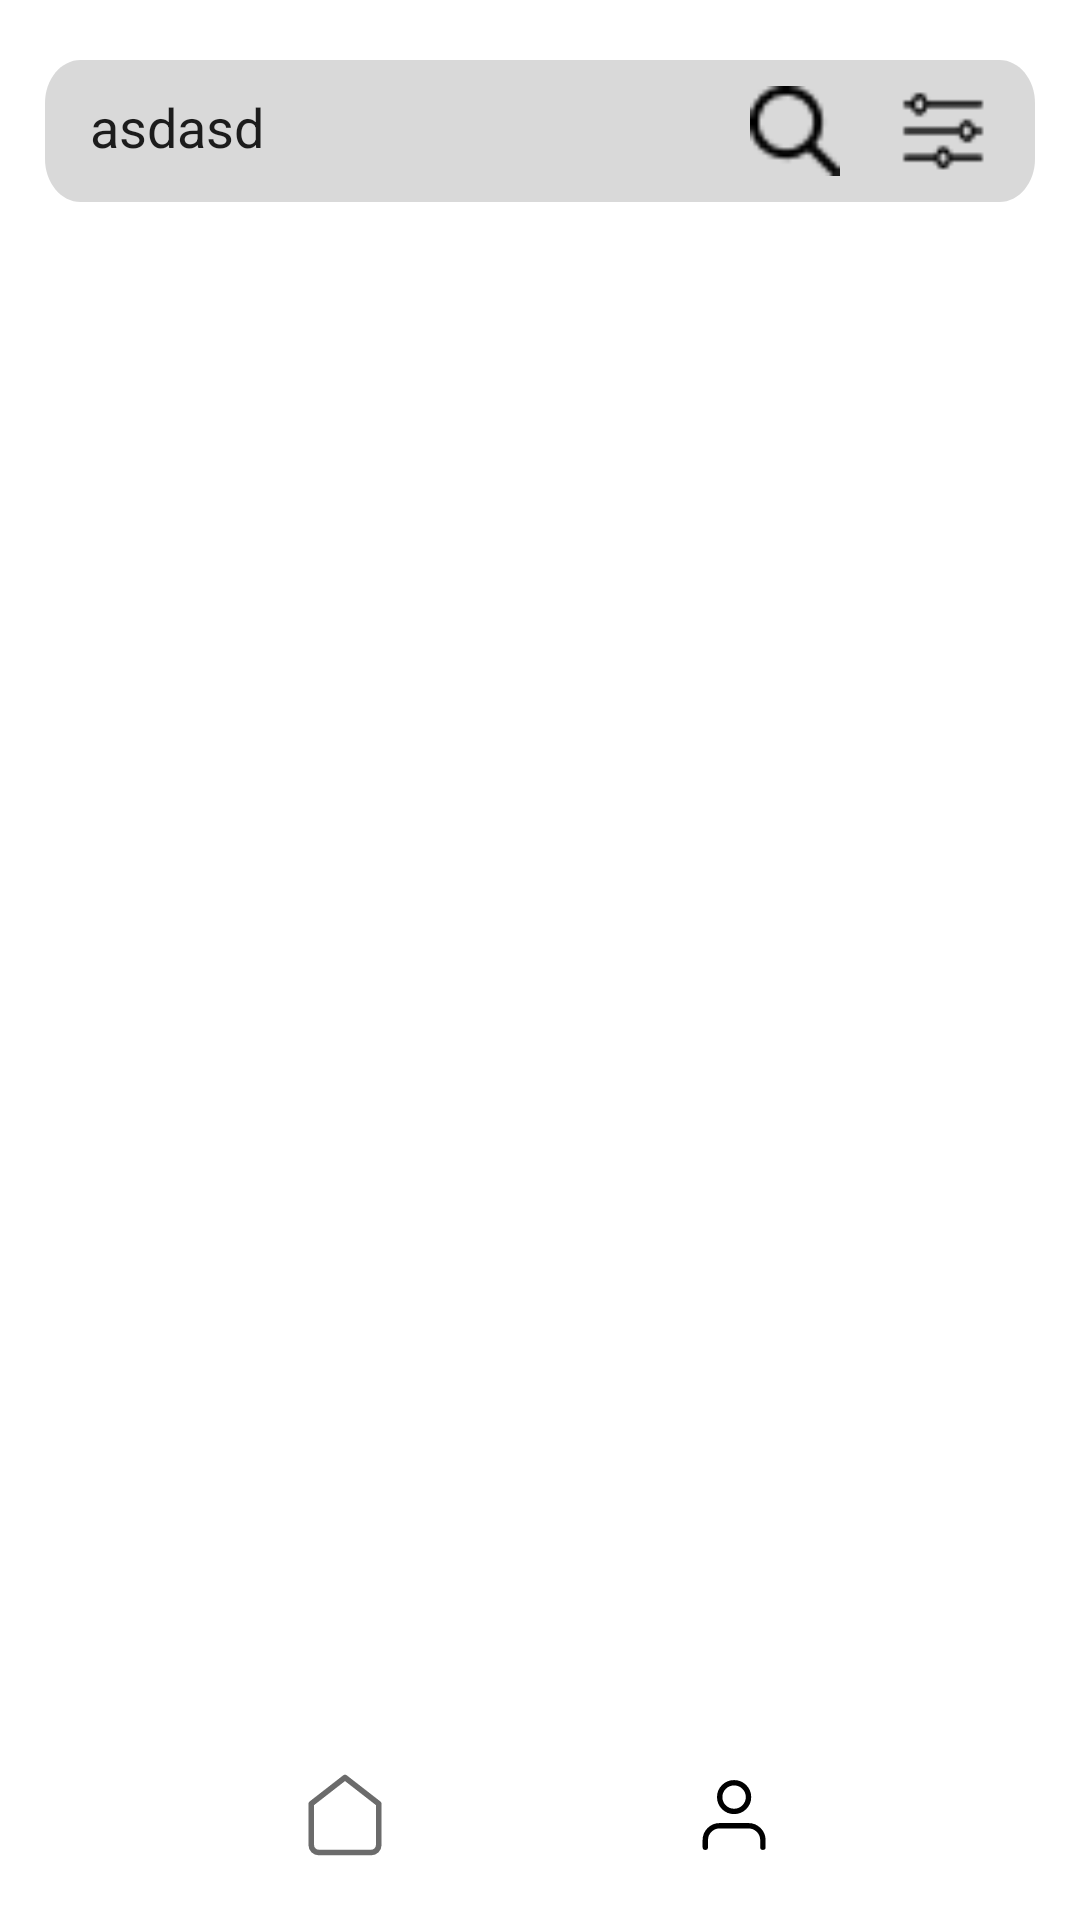

Named icons in this screenshot (1080×1920) and their bounding boxes, [x1=x1, y1=y1, x2=x2, y2=y2]:
filter: [x1=902, y1=92, x2=984, y2=170]
home: [x1=308, y1=1774, x2=382, y2=1856]
person: [x1=702, y1=1780, x2=766, y2=1850]
